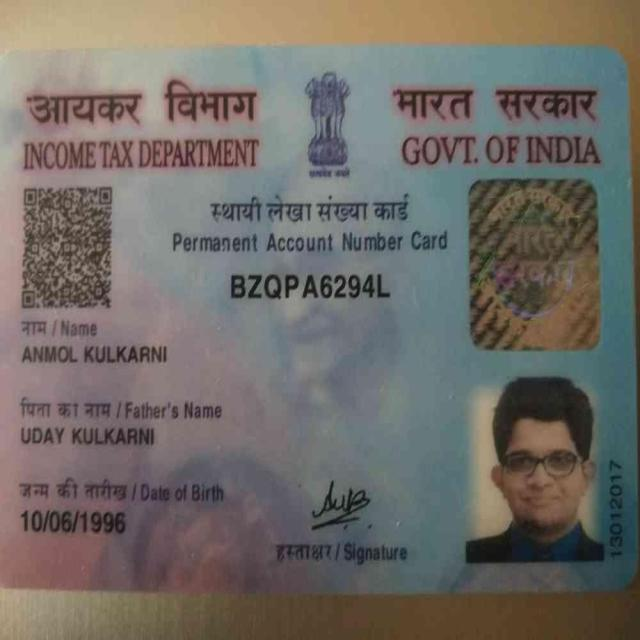pan_card: (1, 53, 635, 579)
